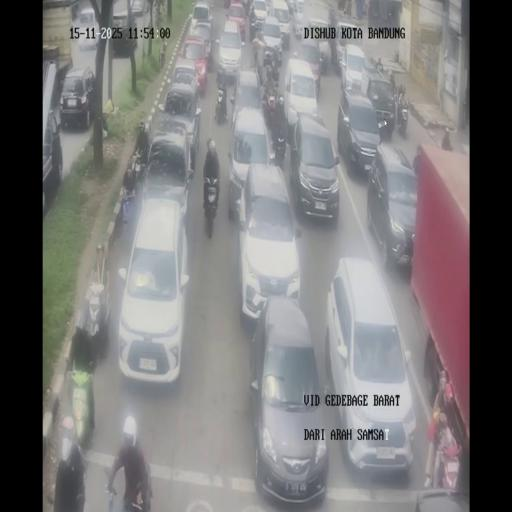3: (411, 150, 469, 487)
car: (326, 255, 416, 469), (249, 298, 327, 504), (116, 197, 190, 387), (368, 144, 419, 271), (289, 114, 340, 224), (227, 105, 272, 219), (147, 108, 198, 188), (283, 56, 321, 133), (359, 66, 397, 137), (59, 66, 97, 130), (42, 107, 63, 208), (178, 36, 210, 95), (216, 20, 244, 84), (234, 68, 264, 116), (339, 42, 367, 93), (305, 17, 331, 70), (260, 14, 285, 65), (188, 0, 213, 49), (76, 8, 98, 50), (291, 2, 307, 38), (130, 0, 146, 19), (288, 0, 296, 12)
truck: (65, 258, 108, 448), (107, 460, 154, 510), (201, 175, 221, 237), (120, 170, 136, 226), (129, 147, 149, 191), (262, 88, 279, 134), (273, 119, 287, 167), (214, 88, 228, 124), (396, 101, 408, 137), (255, 54, 265, 86), (442, 127, 454, 150), (229, 85, 237, 119), (314, 66, 322, 98), (373, 55, 385, 75), (249, 12, 257, 40), (318, 49, 326, 75), (239, 18, 246, 46), (241, 0, 253, 16), (389, 69, 396, 91), (393, 86, 399, 107), (274, 78, 280, 92)
